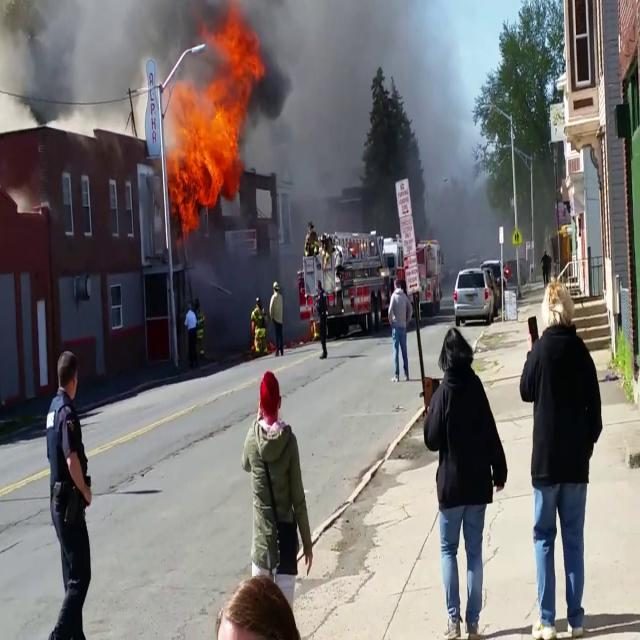Fire: (160, 31, 264, 222)
Smoke: (0, 0, 397, 92), (0, 0, 262, 90)
